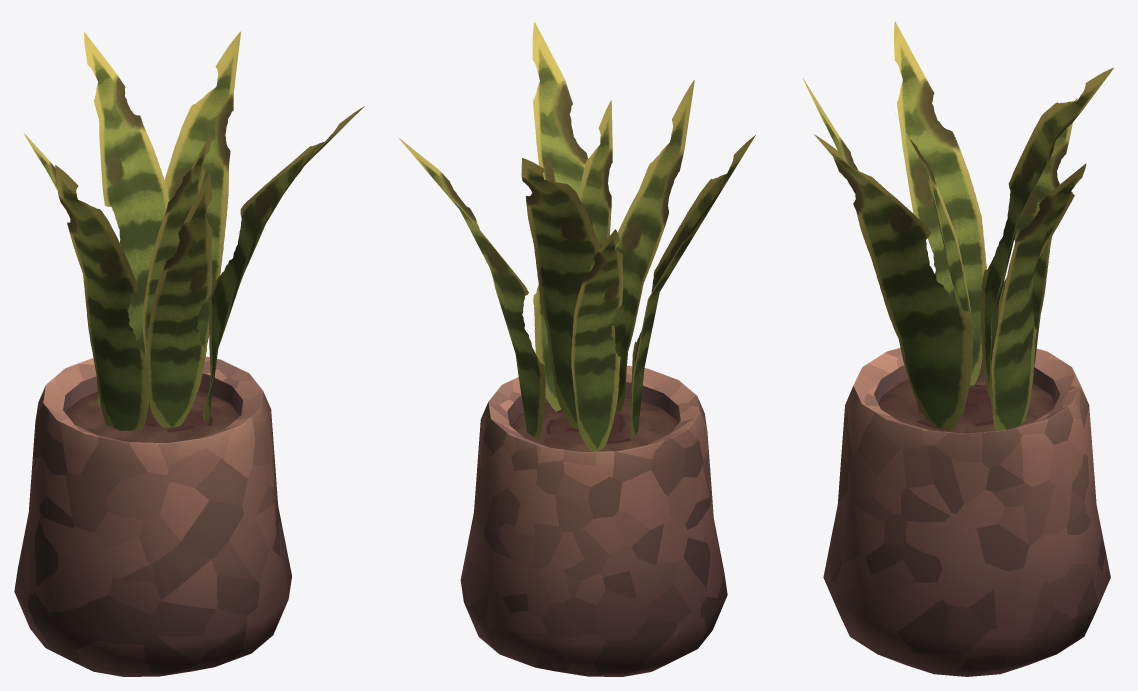
Rendered from MDL_SnakeLeafCheck.fbx.
3 views of the same model, side by side, from view 1: azimuth 30°, elevation 25°; view 2: azimuth 150°, elevation 25°; view 3: azimuth 270°, elevation 25° (orthographic). The views are drawn at different scales.
Parts seen in each view (by area): view 1: MDL_SnakePlantLeafCheck; view 2: MDL_SnakePlantLeafCheck; view 3: MDL_SnakePlantLeafCheck.
Boxes of the visible parts, x1,y1,x2,y2 form: MDL_SnakePlantLeafCheck: (14,31,364,676); MDL_SnakePlantLeafCheck: (398,22,755,676); MDL_SnakePlantLeafCheck: (803,21,1113,676).
Bounding box in the file's own units: 43.95 × 80.67 × 42.24.
